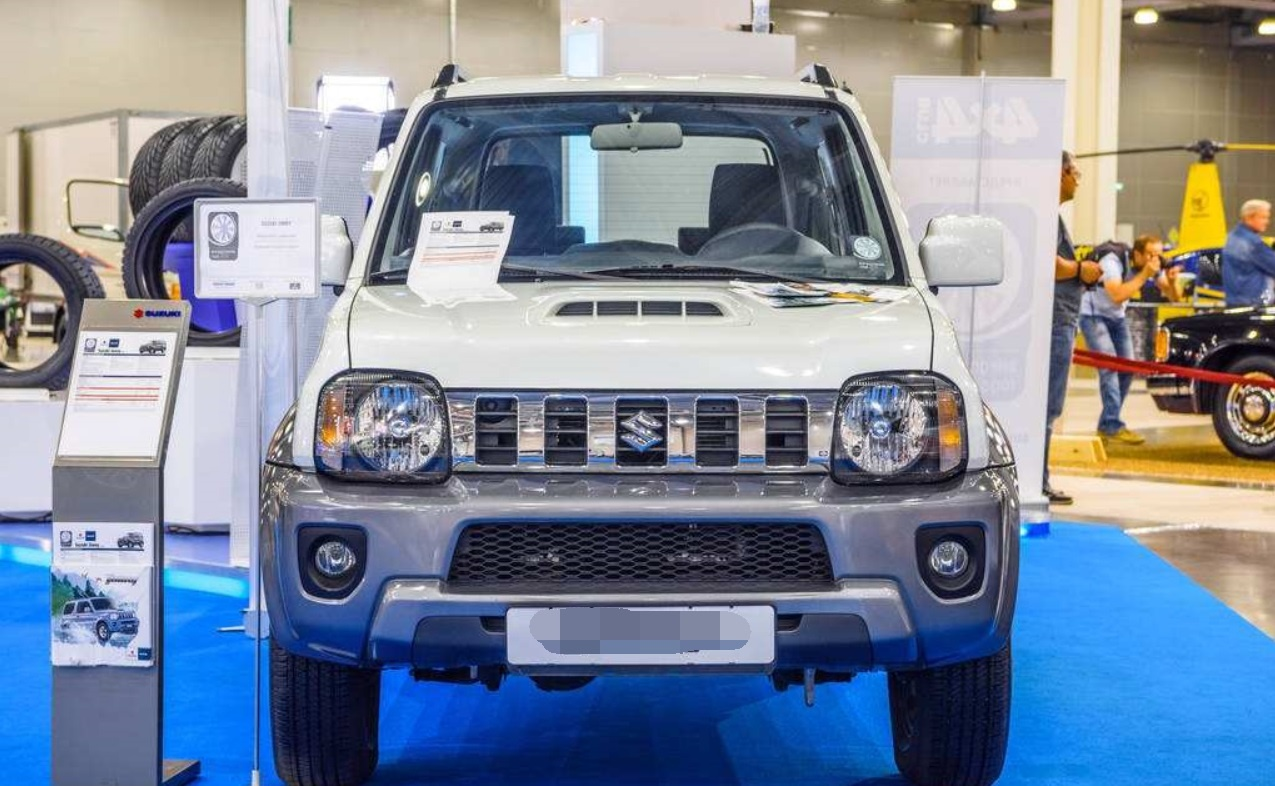jeep: (235, 46, 1009, 786)
